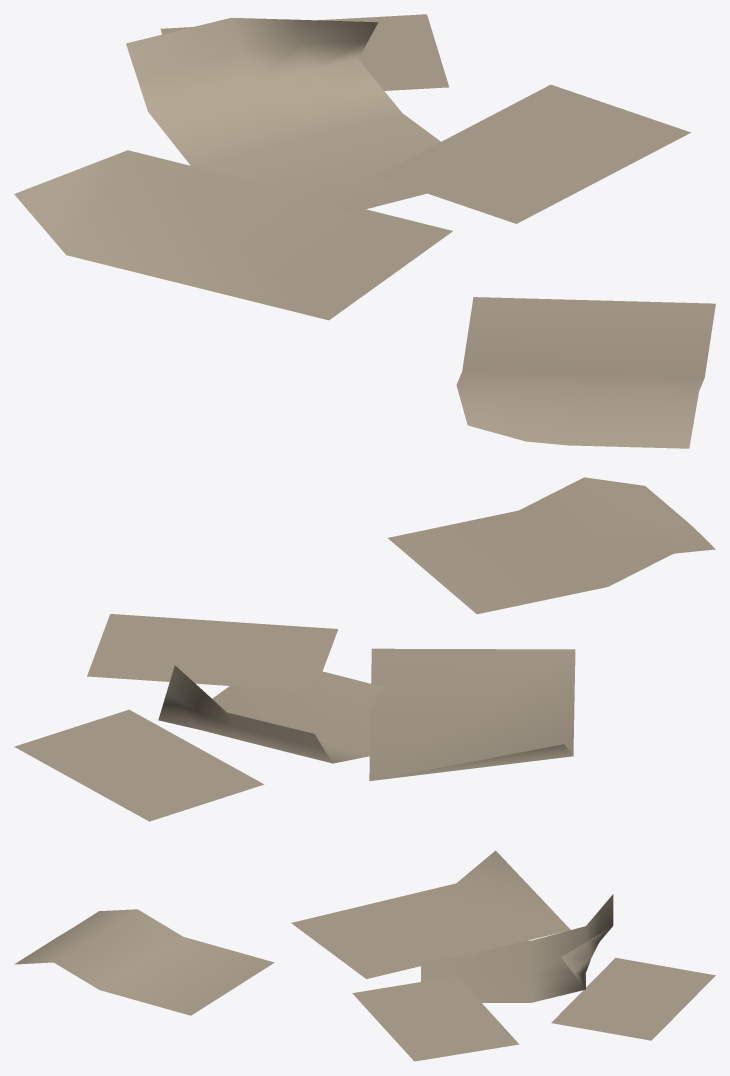
Rendered from S_Paper4.fbx.
The picture shows the model from 3 angles, top to bottom: view 1: azimuth 30°, elevation 25°; view 2: azimuth 150°, elevation 25°; view 3: azimuth 270°, elevation 25°; orthographic projection. The views are drawn at different scales.
Visible parts, largest first — view 1: S_Paper3, S_Paper2, S_Paper1, S_Paper5, S_Paper4; view 2: S_Paper2, S_Paper1, S_Paper5, S_Paper4, S_Paper3; view 3: S_Paper2, S_Paper1, S_Paper3, S_Paper5, S_Paper4.
Part boxes in pixels (x1,y1,x2,y2): S_Paper3: (126,17,440,212); S_Paper2: (14,150,452,320); S_Paper1: (456,297,715,448); S_Paper5: (376,84,690,223); S_Paper4: (160,14,448,90); S_Paper2: (369,648,575,780); S_Paper1: (388,477,715,614); S_Paper5: (87,614,338,691); S_Paper4: (14,709,264,821); S_Paper3: (158,665,382,763); S_Paper2: (291,850,570,978); S_Paper1: (14,909,274,1015); S_Paper3: (421,894,613,1002); S_Paper5: (352,976,519,1061); S_Paper4: (551,957,715,1040).
Size of the model in its own units: 129 by 15.35 by 206.
